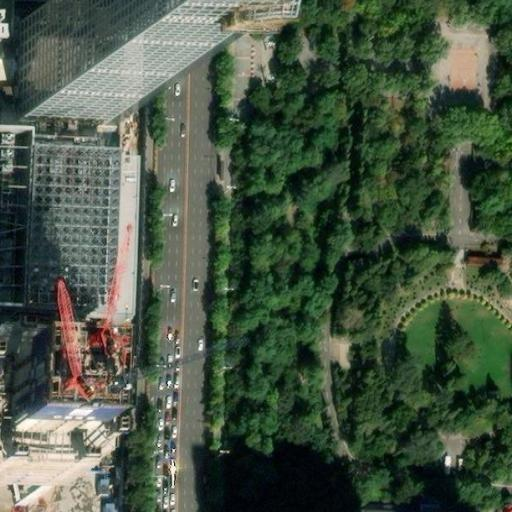building: (0, 114, 124, 325), (0, 322, 118, 457), (17, 17, 126, 114), (34, 323, 120, 413), (465, 248, 507, 267), (347, 507, 403, 512)
